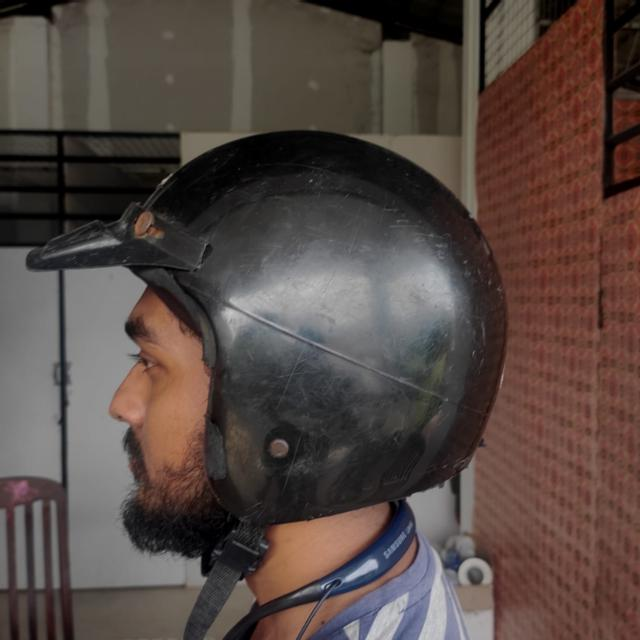With Helmet: (25, 128, 510, 524)
